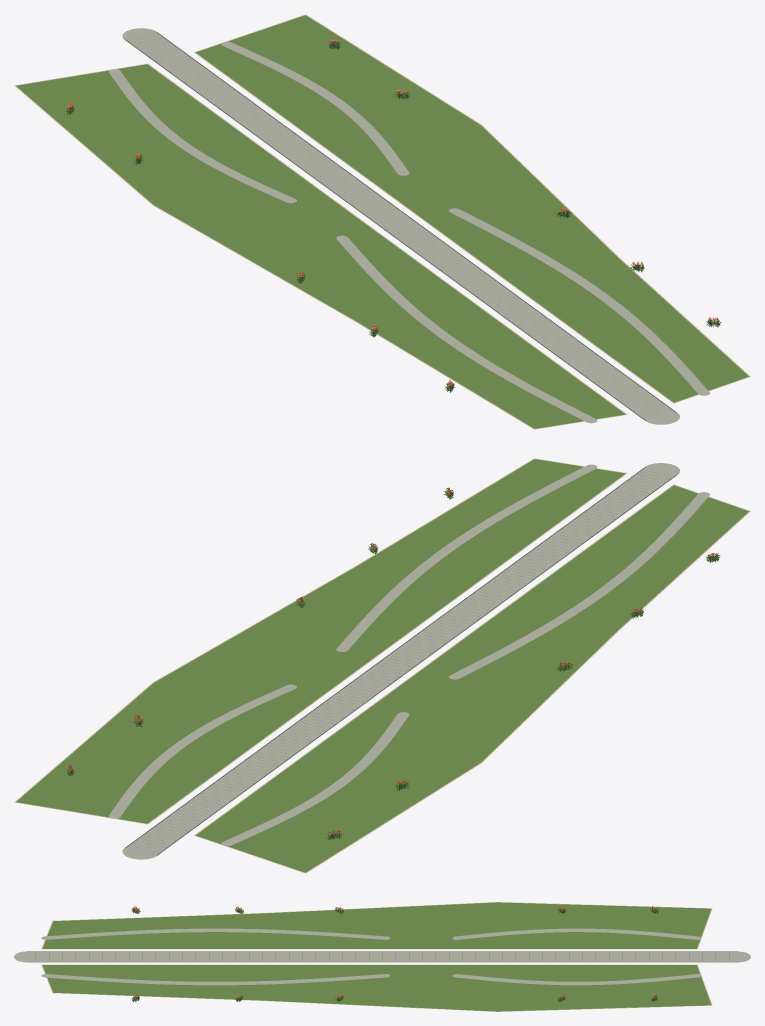
File: axial_photo_garden.glb
3 views of the same model, one above another, from view 1: azimuth 30°, elevation 25°; view 2: azimuth 150°, elevation 25°; view 3: azimuth 270°, elevation 25° (orthographic). The views are drawn at different scales.
Visible parts, largest first — view 1: FormalAxisLawns, PaleMainAxisWalk, MeanderingWhiteGardenPaths, AxisLawnPaleEdging, MainAxisDarkBorders; view 2: FormalAxisLawns, PaleMainAxisWalk, MeanderingWhiteGardenPaths, AxisLawnPaleEdging, MainAxisDarkBorders; view 3: FormalAxisLawns, PaleMainAxisWalk, MeanderingWhiteGardenPaths, AxisLawnPaleEdging, MainAxisDarkBorders, MainAxisSlabJoints, LongBroadFoldedCannaLeaves.
Part boxes in pixels (x1,y1,x2,y2): FormalAxisLawns: (16, 15, 748, 428); PaleMainAxisWalk: (122, 28, 679, 424); MeanderingWhiteGardenPaths: (109, 41, 709, 423); AxisLawnPaleEdging: (14, 14, 750, 429); MainAxisDarkBorders: (125, 32, 676, 420); FormalAxisLawns: (16, 459, 748, 872); PaleMainAxisWalk: (122, 463, 679, 859); MeanderingWhiteGardenPaths: (109, 464, 709, 845); AxisLawnPaleEdging: (14, 458, 750, 873); MainAxisDarkBorders: (125, 467, 676, 855); FormalAxisLawns: (42, 902, 711, 1011); PaleMainAxisWalk: (14, 951, 750, 962); MeanderingWhiteGardenPaths: (41, 928, 701, 985); AxisLawnPaleEdging: (41, 902, 712, 1011); MainAxisDarkBorders: (27, 951, 737, 962); MainAxisSlabJoints: (35, 951, 729, 961); LongBroadFoldedCannaLeaves: (131, 907, 658, 1001).
Size of the model in its own units: 70.25 by 1.96 by 199.
